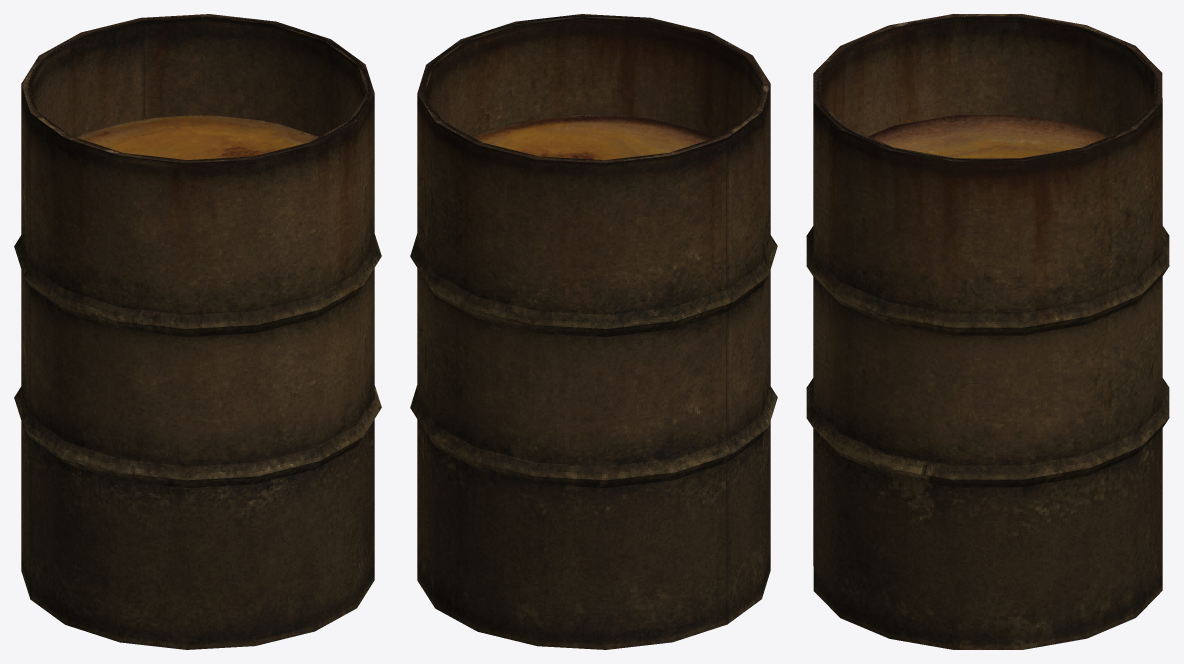
The model's file is metal_barrel_hr_3.glb.
3 renders of one model, left to right at view 1: azimuth 30°, elevation 25°; view 2: azimuth 150°, elevation 25°; view 3: azimuth 270°, elevation 25°, orthographic.
Parts seen in each view (by area): view 1: metal_barrel_hr_3; view 2: metal_barrel_hr_3; view 3: metal_barrel_hr_3.
Part boxes in pixels (<box>): metal_barrel_hr_3: <box>14,14,381,649</box>; metal_barrel_hr_3: <box>410,14,777,649</box>; metal_barrel_hr_3: <box>806,14,1169,649</box>.
Bounding box in the file's own units: 0.6735 × 1 × 0.6735.
1 material, 1 textured.
